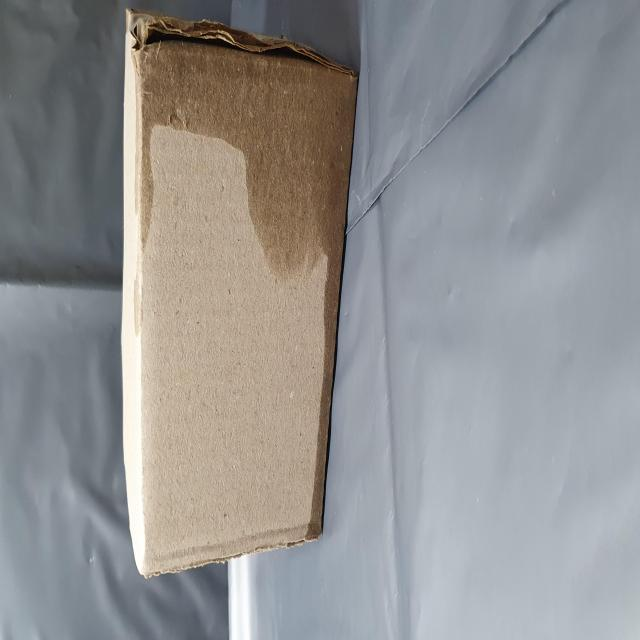wet: (193, 237, 336, 637)
